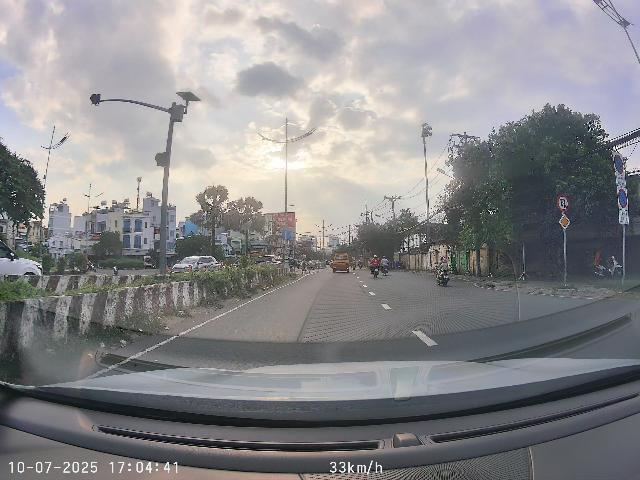124a-cam-quay-dau-xe: (557, 194, 570, 212)
130-cam-dung-va-do-xe: (614, 154, 624, 174)
131a-cam-do-xe: (618, 188, 627, 208)
301a-cac-xe-chi-duoc-di-thang: (281, 229, 291, 240)
